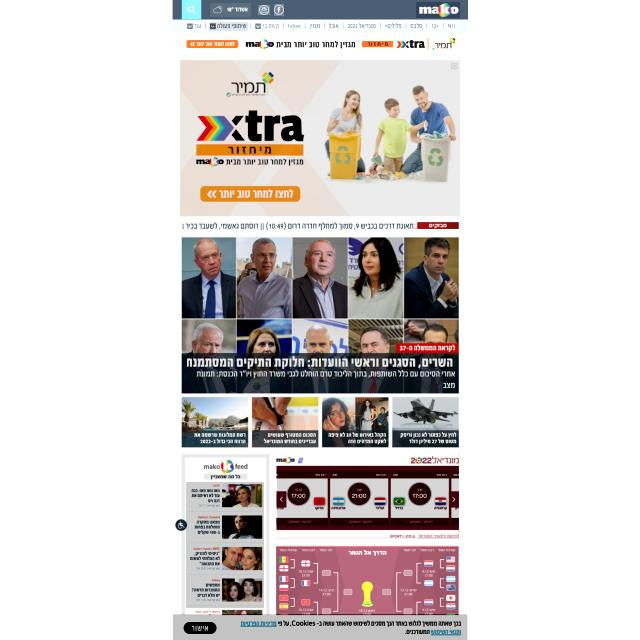CheckBox: (182, 0, 201, 19)
ImageView: (180, 60, 460, 216), (182, 36, 458, 52)
ProgressBar: (180, 220, 460, 231)
QR code: (277, 545, 459, 615), (277, 466, 459, 530), (186, 482, 264, 608), (210, 3, 251, 17)
alert: (209, 22, 248, 31), (254, 22, 281, 31), (187, 23, 202, 30)
bag: (172, 0, 468, 33)
card: (182, 237, 458, 394)
carousel: (258, 5, 270, 15), (274, 4, 284, 16)
date picker: (416, 2, 460, 18)
decoration: (184, 21, 458, 31)
header: (173, 614, 467, 640)
image: (188, 356, 456, 369)
